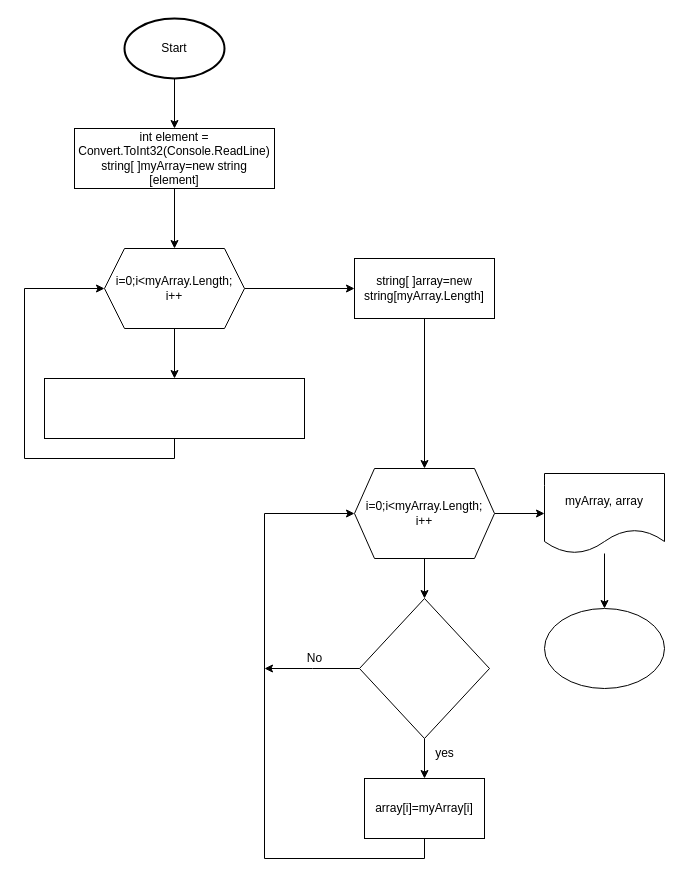
Some shapes in this 682 by 884 pixel diagram are drawn without their labels. The centre of each missing label's shape, as x and y in pixels:
"End" goes at [604,648].
"myArray[i].Length<=3" goes at [424,668].
"myArray[i]=Convert.ToString(Console.ReadLine)" goes at [174,408].
